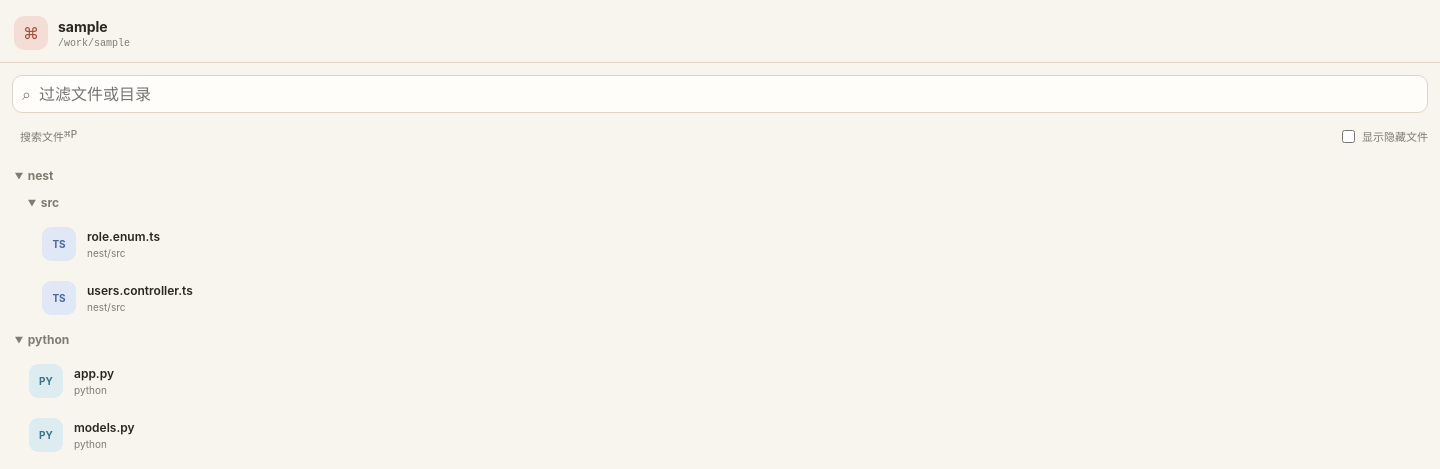
FileBrowser › filters by relative path, retains ancestors, and clears the query
This screenshot has width=1440, height=469.
Type "nest/src/role" into the search field labelled "过滤文件或目录" at [724, 94], box [31, 76, 1418, 112]
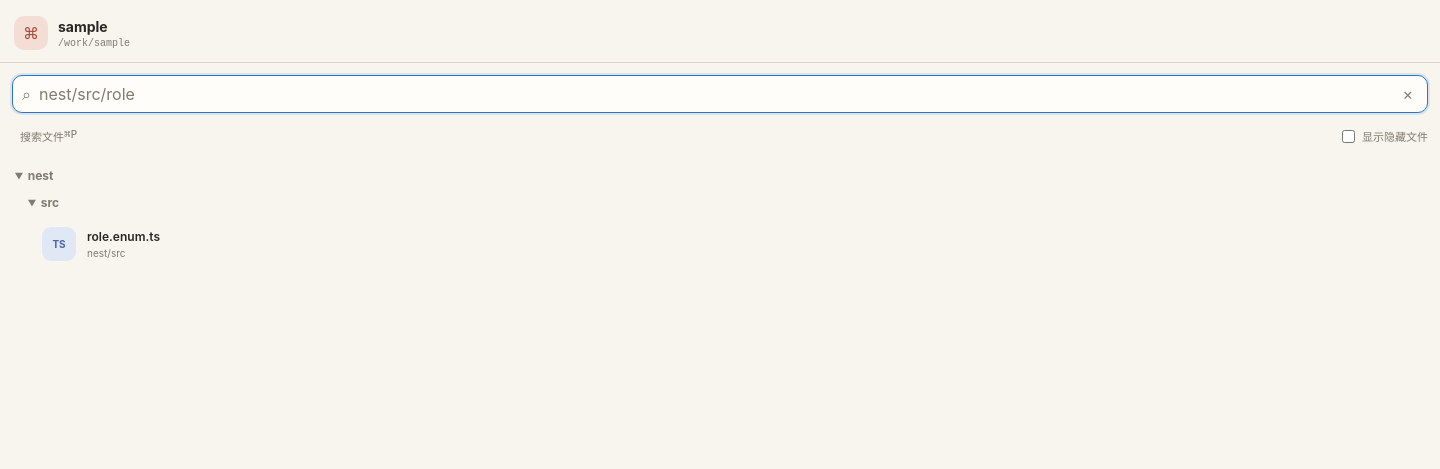
Expected: the heading "nest" is shown, [28, 168, 53, 183]
Now the list item "users.controller.ts" is gone
Now the list item "app.py" is gone
Click the button named "清空文件过滤" at [1408, 94], box [1397, 81, 1418, 107]
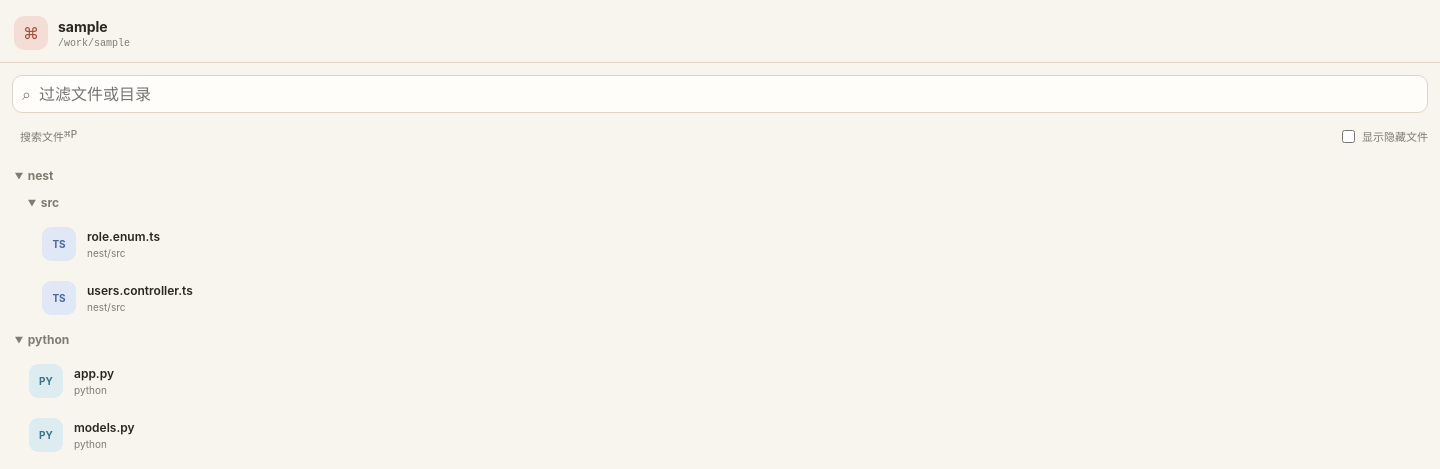
Now the list item "users.controller.ts" is shown, box [34, 272, 1432, 324]
Now the list item "app.py" is shown, box [21, 355, 1432, 407]
